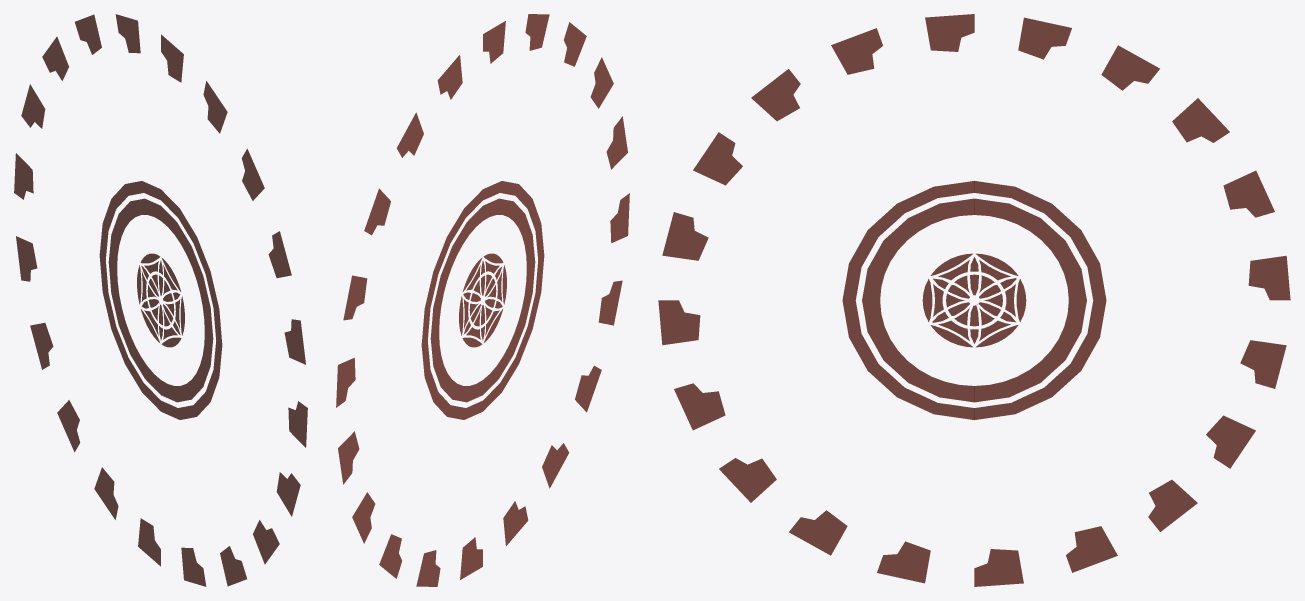
File: staklo_crveno.obj
The picture shows the model from 3 angles, left to right: view 1: azimuth 30°, elevation 25°; view 2: azimuth 150°, elevation 25°; view 3: azimuth 270°, elevation 25°; orthographic projection. The views are drawn at different scales.
Size of the model in its own units: 0 by 3.42 by 3.42.
